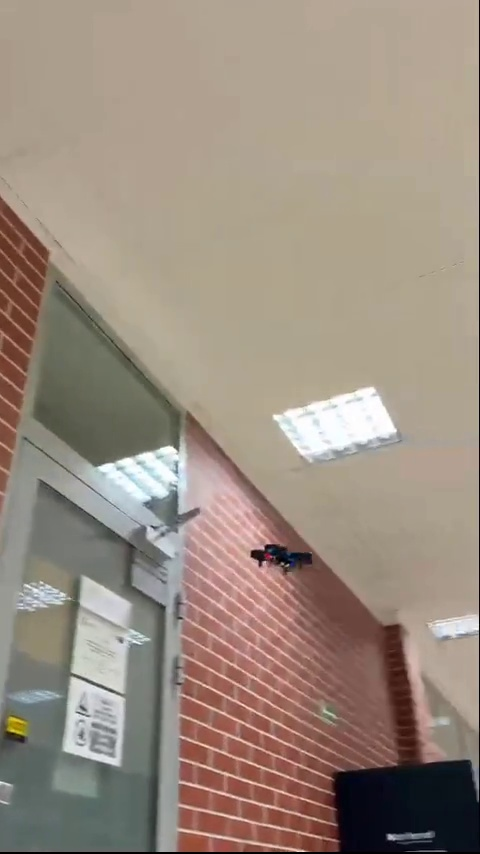drone: (246, 542, 313, 577)
